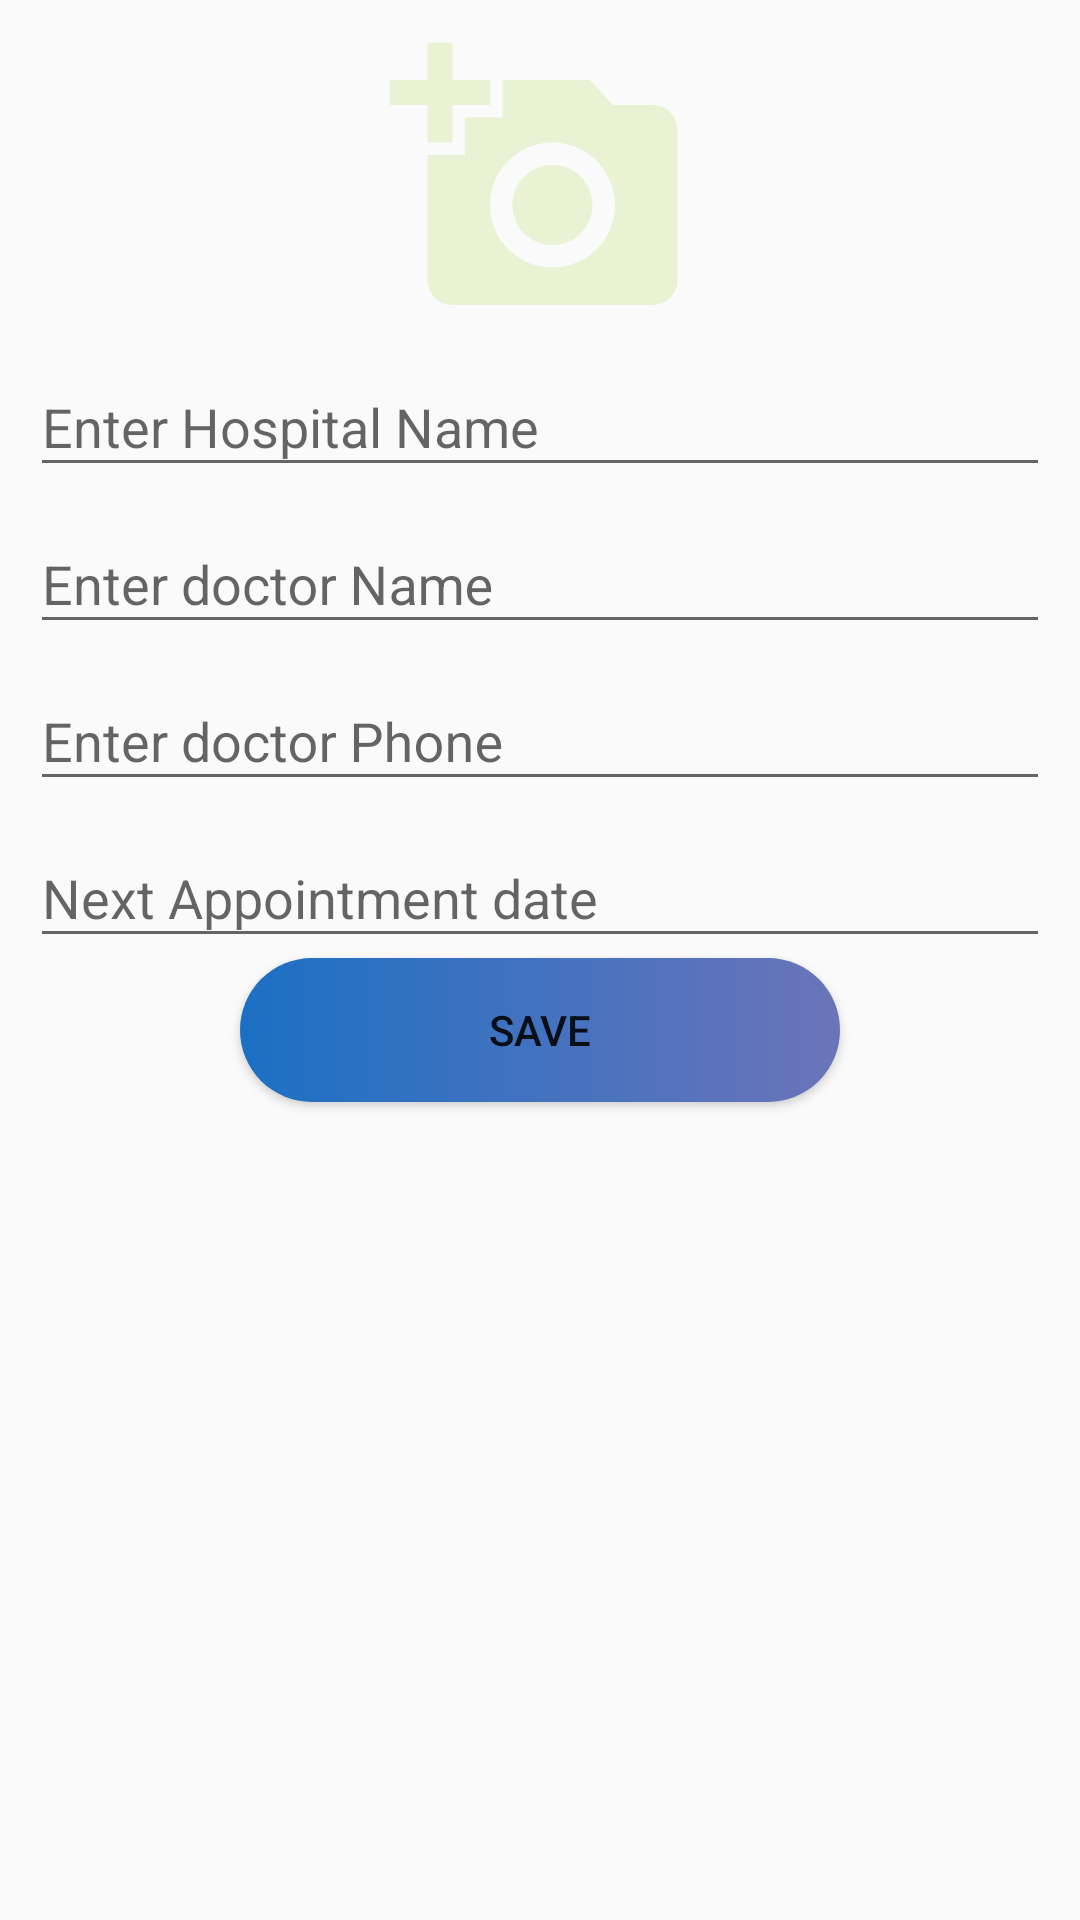

Where icons sit on this 1080px x 1920px app screen, as (x1, y1, x2, y2):
add photo: (390, 43, 677, 305)
